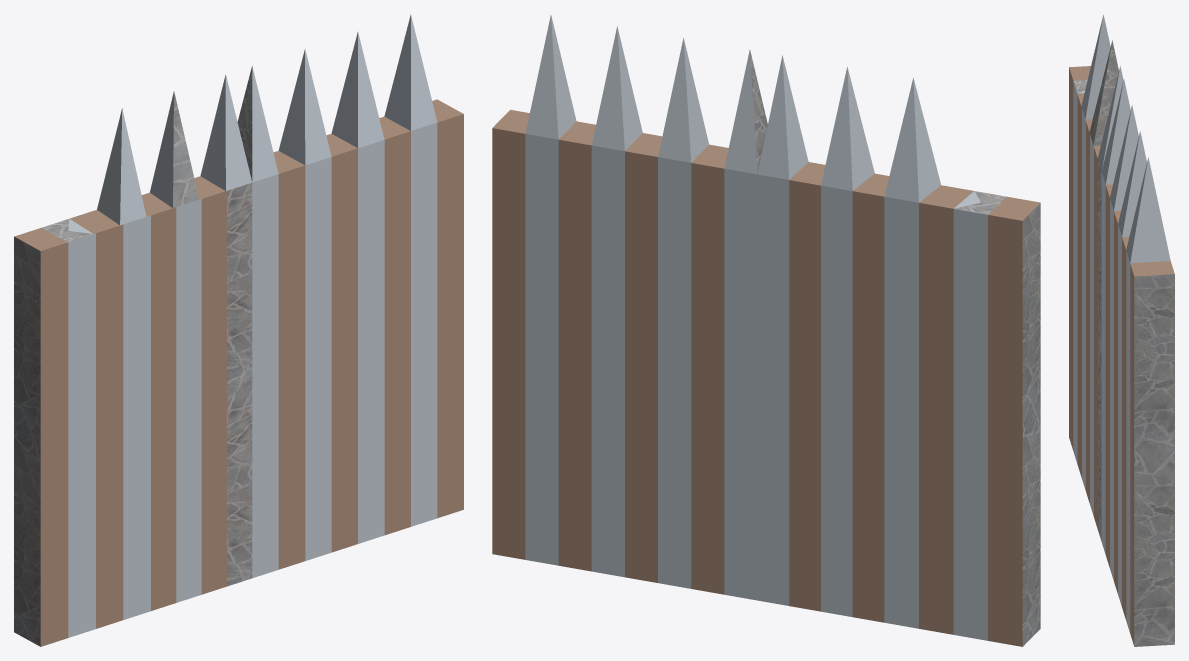
Rendered from gladiator gate.fbx.
The picture shows the model from 3 angles, left to right: view 1: azimuth 30°, elevation 25°; view 2: azimuth 150°, elevation 25°; view 3: azimuth 270°, elevation 25°; orthographic projection. The views are drawn at different scales.
Visible parts, largest first — view 1: Model; view 2: Model; view 3: Model.
Part boxes in pixels (box(x1,y1,x2,y2)): Model: box(14, 14, 463, 646); Model: box(492, 15, 1040, 646); Model: box(1069, 14, 1174, 646).
Bounding box in the file's own units: 220 × 228 × 46.54.
